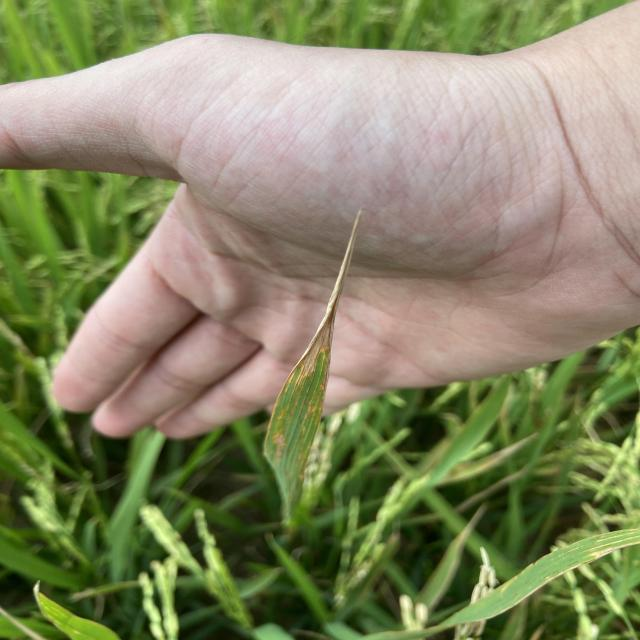Dom soc vi khuan: (304, 354, 331, 420), (273, 433, 288, 470), (301, 373, 314, 407), (294, 386, 304, 407), (277, 408, 284, 420), (290, 410, 295, 417)
